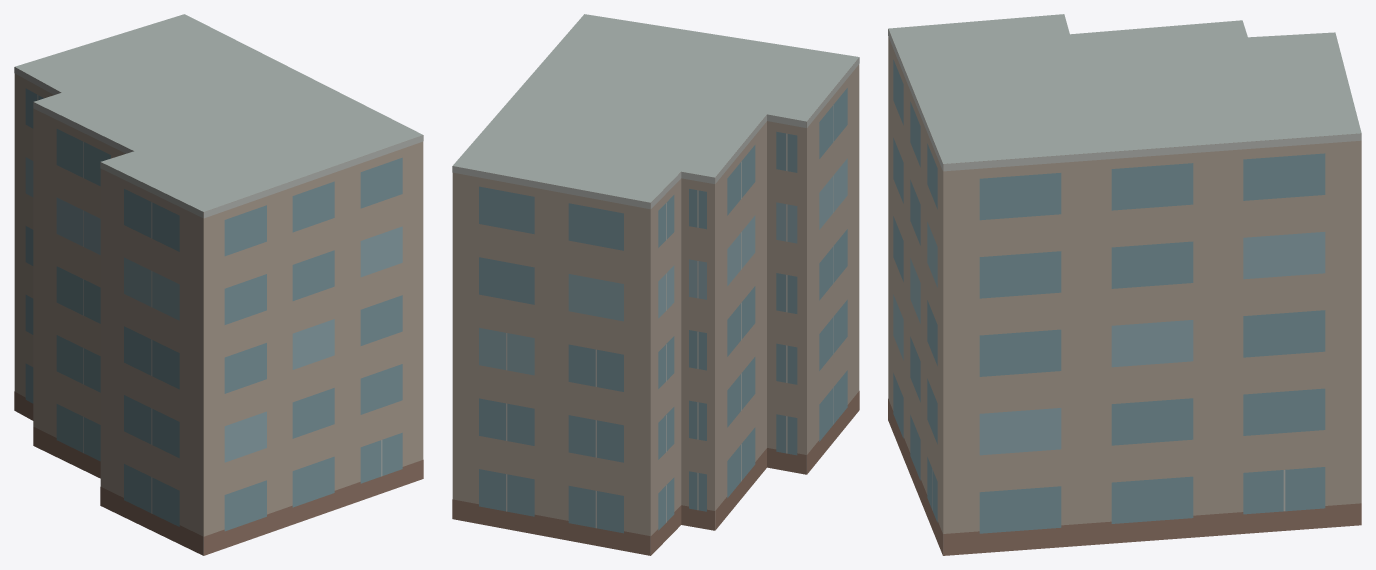
The model's file is survey-upis-32882587.glb.
3 views of the same model, side by side, from view 1: azimuth 30°, elevation 25°; view 2: azimuth 150°, elevation 25°; view 3: azimuth 270°, elevation 25° (orthographic). The views are drawn at different scales.
Parts seen in each view (by area): view 1: survey-upis-32882587.tmp; view 2: survey-upis-32882587.tmp; view 3: survey-upis-32882587.tmp.
Part boxes in pixels (x1,y1,x2,y2): survey-upis-32882587.tmp: (14, 14, 423, 555); survey-upis-32882587.tmp: (452, 14, 859, 555); survey-upis-32882587.tmp: (888, 14, 1361, 555).
Size of the model in its own units: 10.69 by 13 by 14.25.
